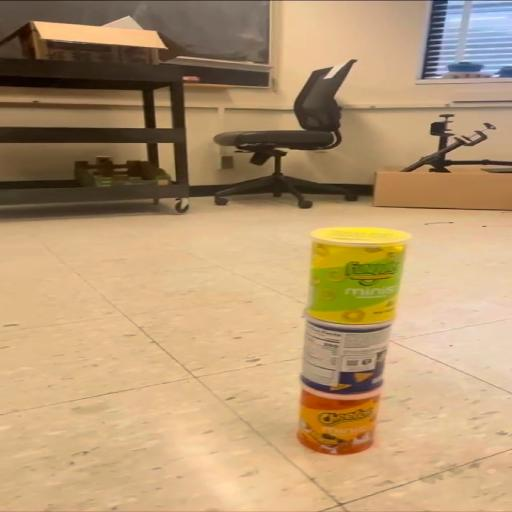pringle can: (309, 225, 400, 325), (306, 318, 390, 394), (296, 388, 379, 456)
